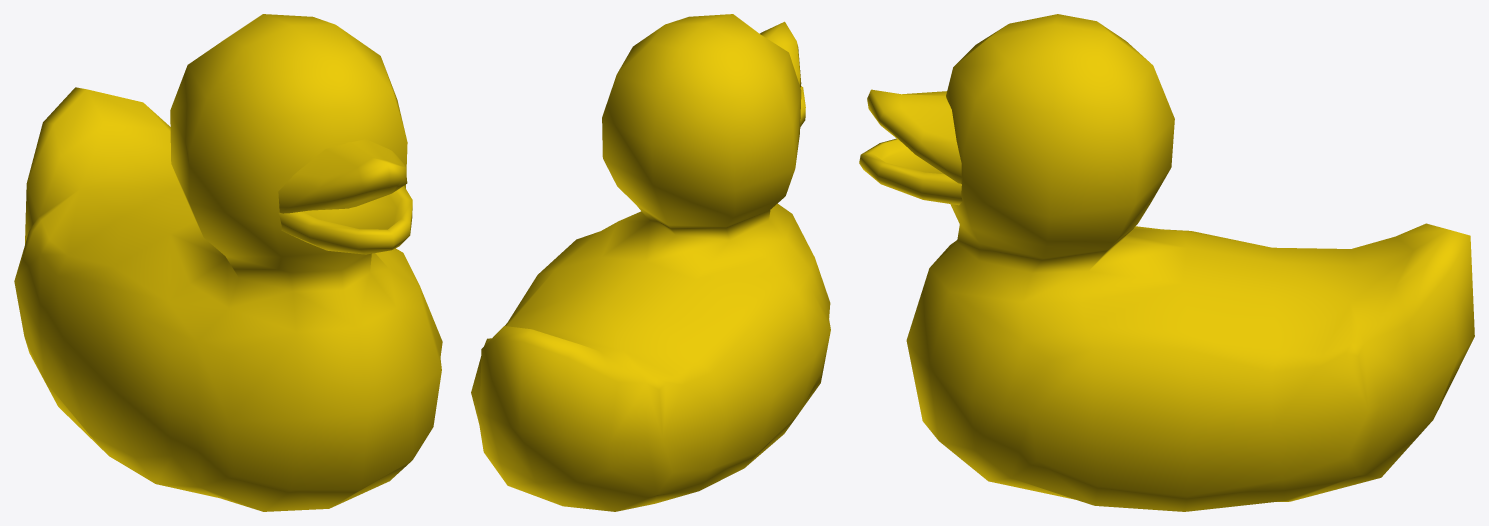
The model's file is duck.glb.
3 views of the same model, side by side, from view 1: azimuth 30°, elevation 25°; view 2: azimuth 150°, elevation 25°; view 3: azimuth 270°, elevation 25° (orthographic). The views are drawn at different scales.
Parts seen in each view (by area): view 1: RubberDuck; view 2: RubberDuck; view 3: RubberDuck.
Part boxes in pixels (<box>): RubberDuck: <box>14,14,442,511</box>; RubberDuck: <box>471,14,830,511</box>; RubberDuck: <box>859,14,1474,511</box>.
Bounding box in the file's own units: 1.19 × 1.75 × 2.15.
